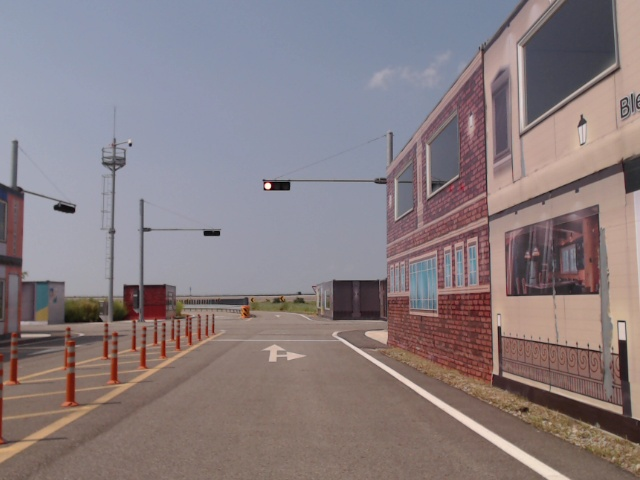red_3: (264, 182, 291, 190)
